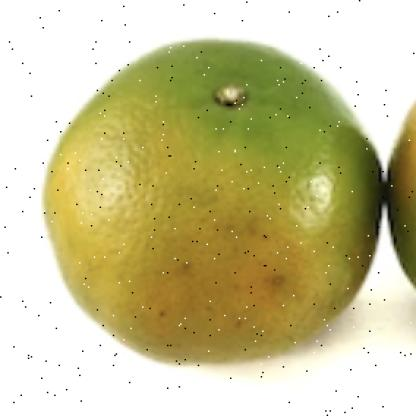fresh: (44, 39, 380, 366)
